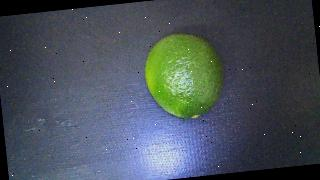EXPORTACION: (141, 30, 228, 123)
